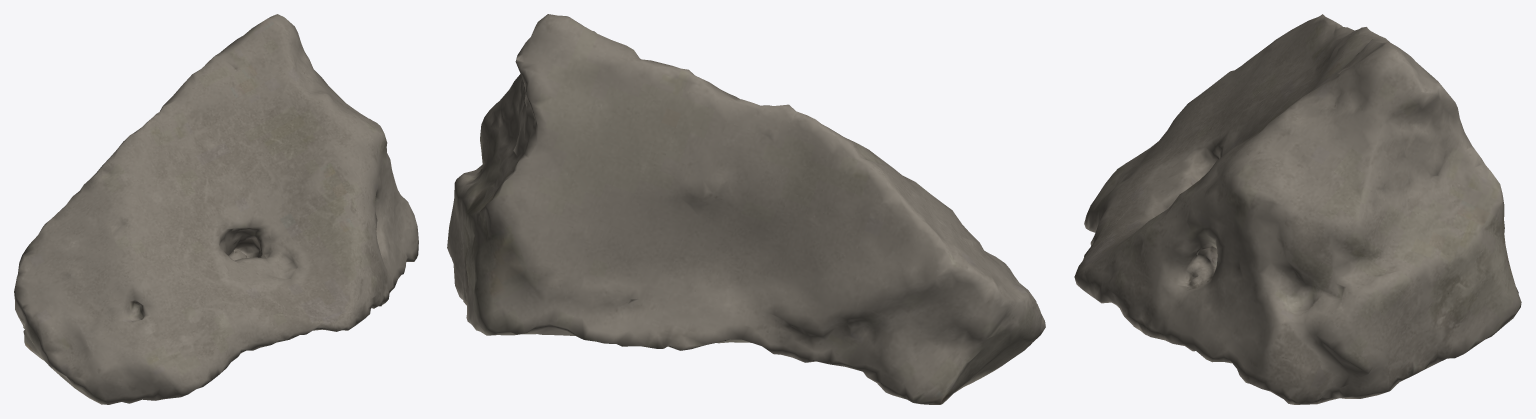
File: moon_rock_07-transformed.glb
The picture shows the model from 3 angles, left to right: view 1: azimuth 30°, elevation 25°; view 2: azimuth 150°, elevation 25°; view 3: azimuth 270°, elevation 25°; orthographic projection. The views are drawn at different scales.
Visible parts, largest first — view 1: moon_rock_07_LOD0; view 2: moon_rock_07_LOD0; view 3: moon_rock_07_LOD0.
Boxes of the visible parts, <box> form: moon_rock_07_LOD0: <box>14,14,418,404</box>; moon_rock_07_LOD0: <box>447,14,1045,404</box>; moon_rock_07_LOD0: <box>1074,14,1521,404</box>.
Size of the model in its own units: 0.0968 by 0.0603 by 0.0738.
1 material, 1 textured.
